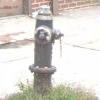a fire hydrant: (28, 4, 65, 73)
